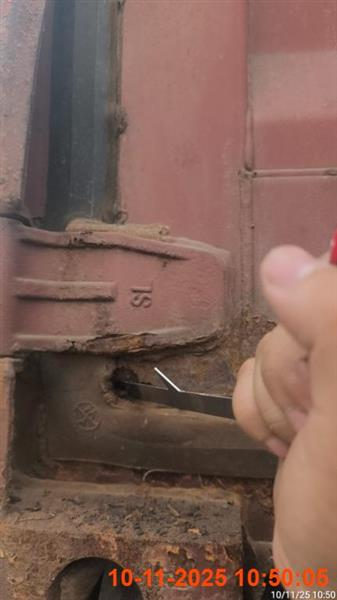rust: (230, 230, 336, 599)
